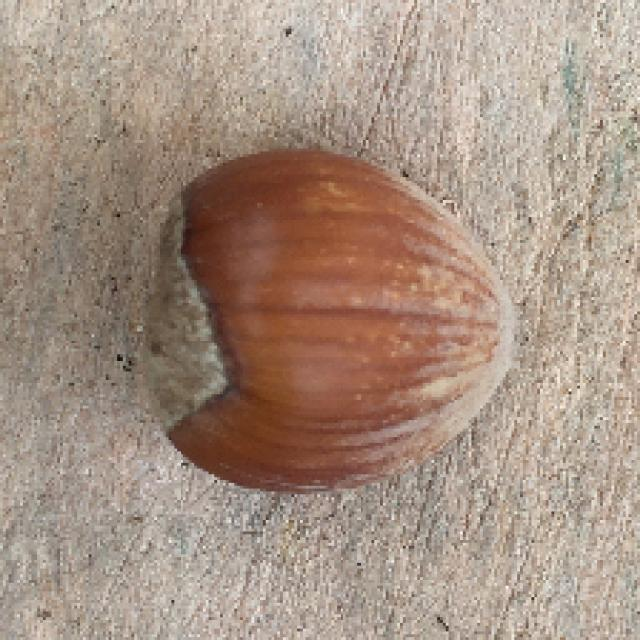qualityHazelnut: (143, 157, 535, 499)
